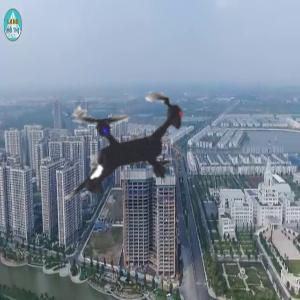drone: (17, 36, 235, 254)
